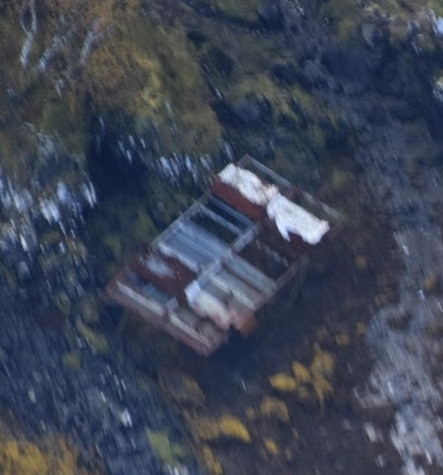cuboid: (98, 148, 353, 365)
